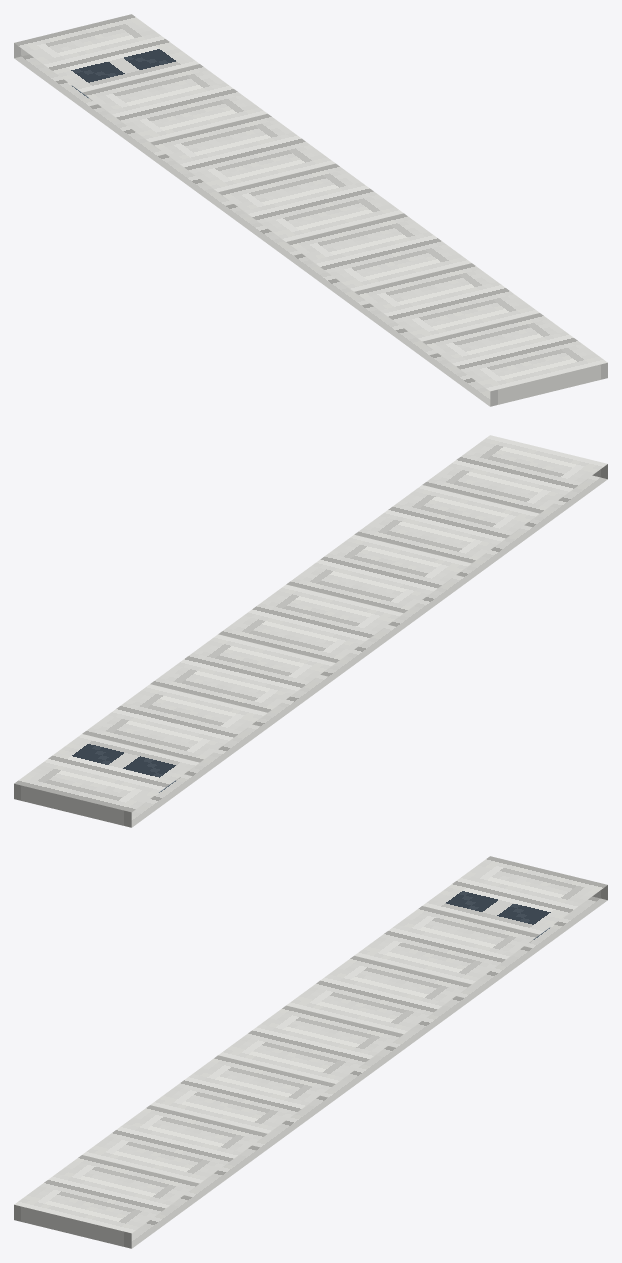
Rendered from windowed_run_7.obj.
3 views of the same model, one above another, from view 1: azimuth 30°, elevation 25°; view 2: azimuth 150°, elevation 25°; view 3: azimuth 330°, elevation 25° (orthographic).
Visible parts, largest first — view 1: run; view 2: run; view 3: run.
Part boxes in pixels (<box>): run: <box>14,14,607,406</box>; run: <box>14,435,607,827</box>; run: <box>14,856,607,1248</box>.
Bounding box in the file's own units: 1 × 0.125 × 7.
